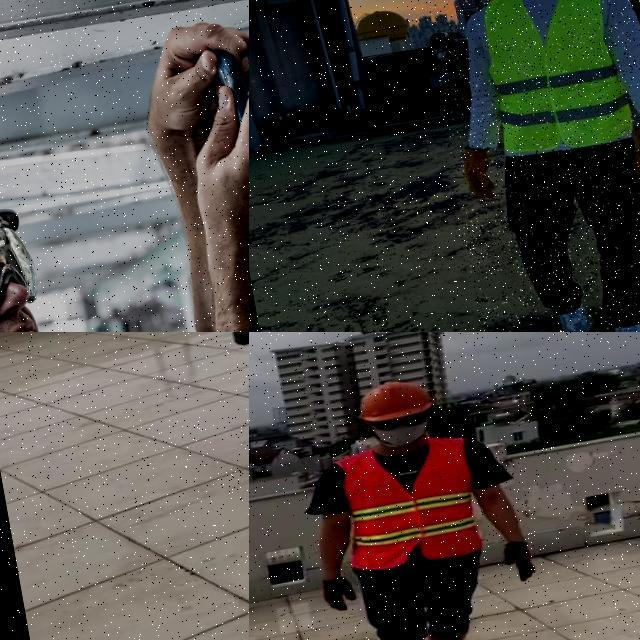boots: (556, 301, 601, 332), (422, 623, 479, 640), (611, 317, 640, 332)
helmet: (349, 372, 440, 426)
vest: (476, 0, 634, 159), (329, 433, 483, 576)
